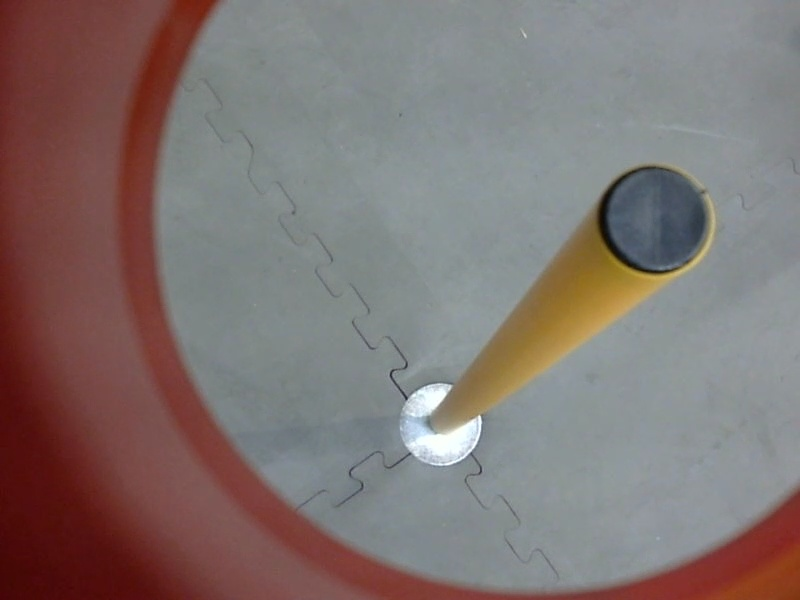tip: (588, 156, 720, 283)
